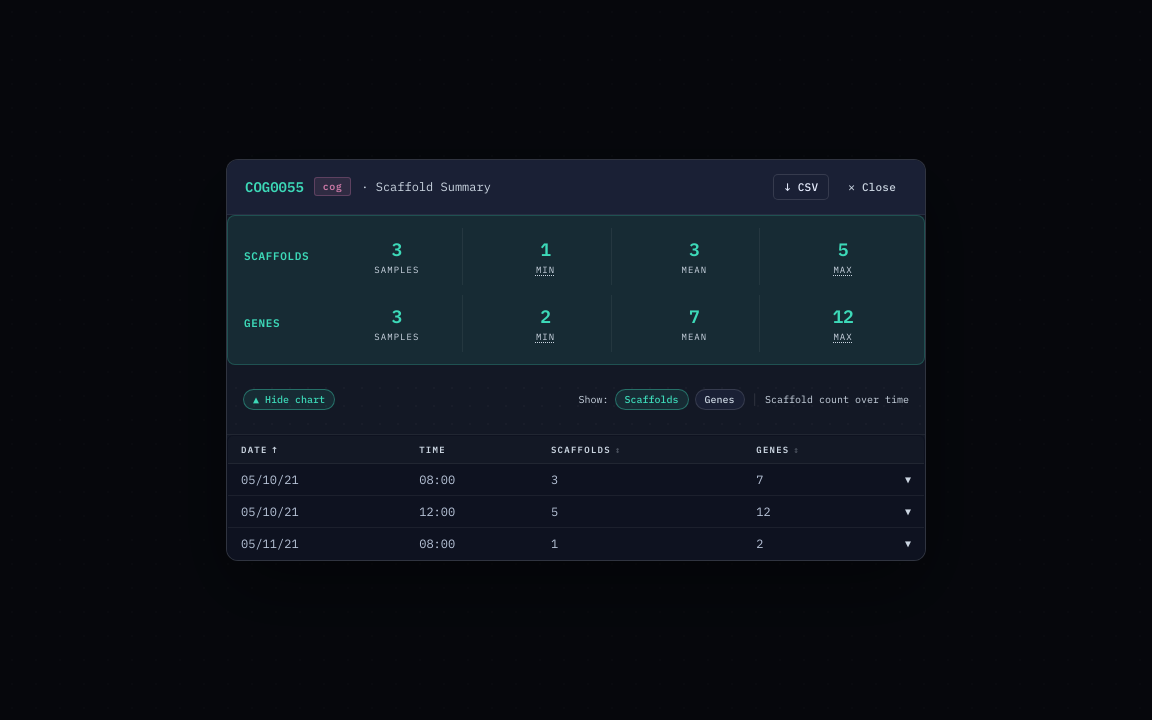
Test: ScaffoldModal — chart controls › Genes button switches to gene_count metric
Click the button with test id "metric-genes". click: x=720, y=400
box: [695, 389, 745, 410]
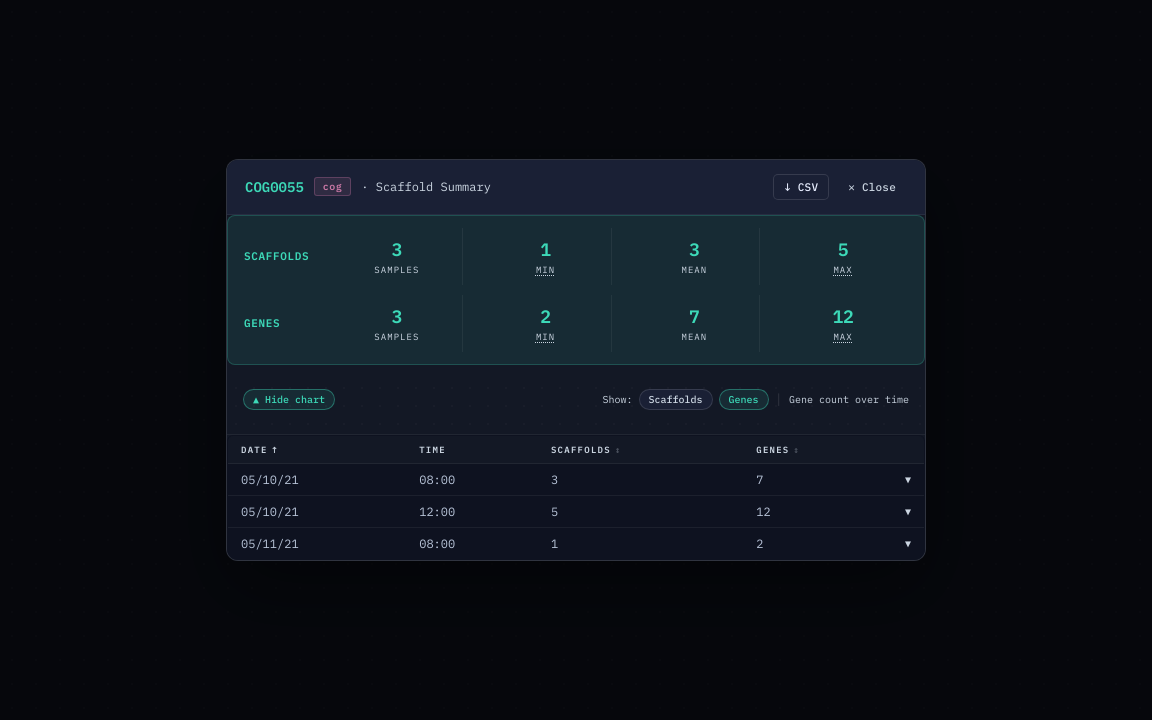
expect the text with test id "chart-metric-label" shows "Gene count": met, box [789, 393, 909, 406]
